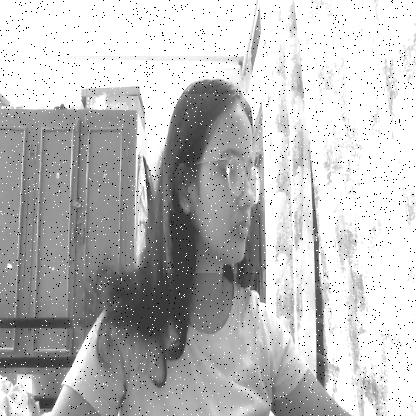Distracted: (163, 94, 259, 273)
